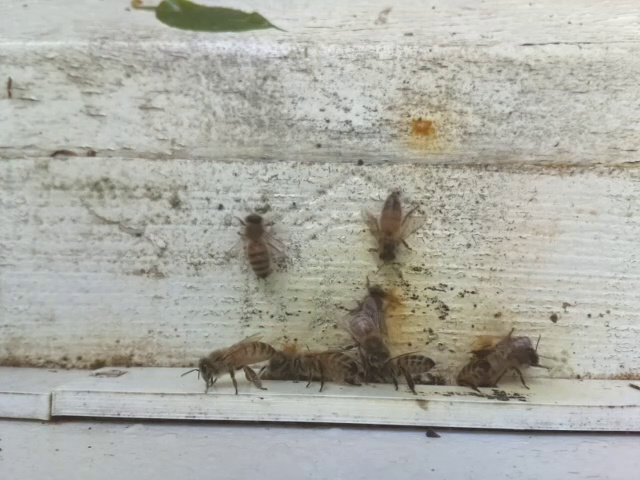bee: (180, 329, 285, 397), (232, 201, 289, 287), (362, 185, 427, 260), (491, 326, 551, 389), (333, 302, 393, 363), (367, 348, 443, 396), (290, 344, 363, 393), (449, 345, 499, 396)
